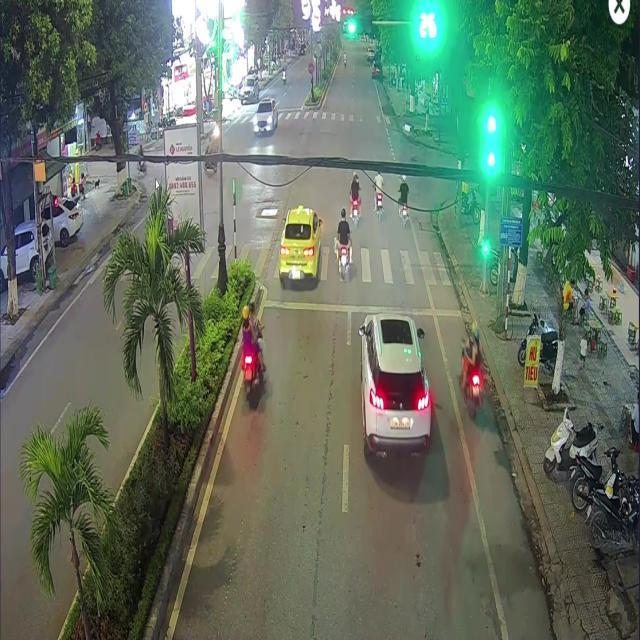car: (357, 312, 433, 455), (277, 204, 321, 287)
green_light: (346, 15, 373, 36), (486, 135, 495, 168), (483, 236, 487, 254)
motobike: (462, 365, 484, 418), (243, 354, 264, 398), (336, 243, 351, 278), (374, 188, 383, 218), (349, 197, 360, 221), (397, 202, 408, 226)
stop_line: (263, 299, 460, 315)
